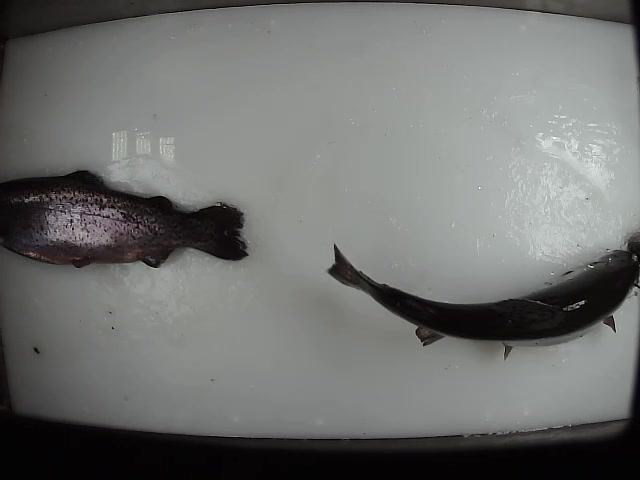fish: (323, 238, 630, 362), (1, 167, 252, 270)
